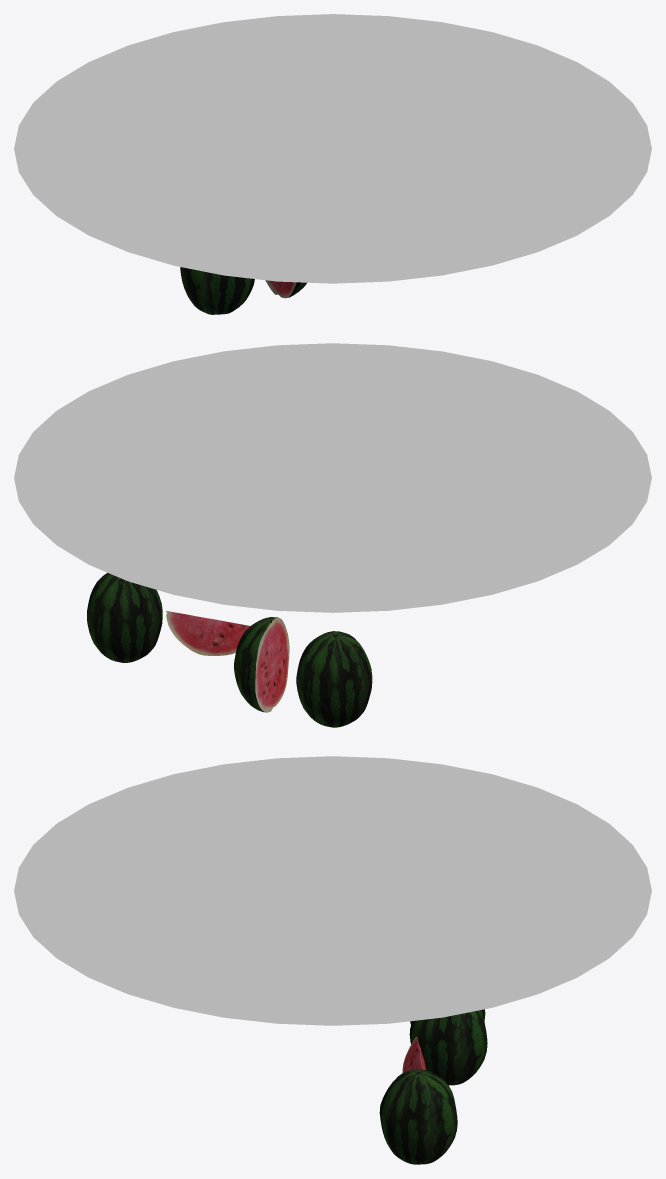
Rendered from Watermelon.fbx.
3 views of the same model, one above another, from view 1: azimuth 30°, elevation 25°; view 2: azimuth 150°, elevation 25°; view 3: azimuth 270°, elevation 25° (orthographic).
Parts seen in each view (by area): view 1: Disc, Sphere01, Watermelon_half_a; view 2: Disc, Sphere01, Watermelon_slice, Watermelon_half_a, Box02; view 3: Disc, Watermelon_slice, Watermelon_half_a.
Part boxes in pixels (<box>): Disc: <box>14,14,651,283</box>; Sphere01: <box>180,267,254,314</box>; Watermelon_half_a: <box>265,280,306,298</box>; Disc: <box>14,343,651,612</box>; Sphere01: <box>296,631,372,727</box>; Watermelon_slice: <box>87,572,162,662</box>; Watermelon_half_a: <box>234,617,289,712</box>; Box02: <box>166,610,250,655</box>; Disc: <box>14,756,651,1025</box>; Watermelon_slice: <box>379,1069,457,1164</box>; Watermelon_half_a: <box>409,1010,487,1085</box>.
Bounding box in the file's own units: 700 × 230 × 700.
2 materials, 1 textured.
